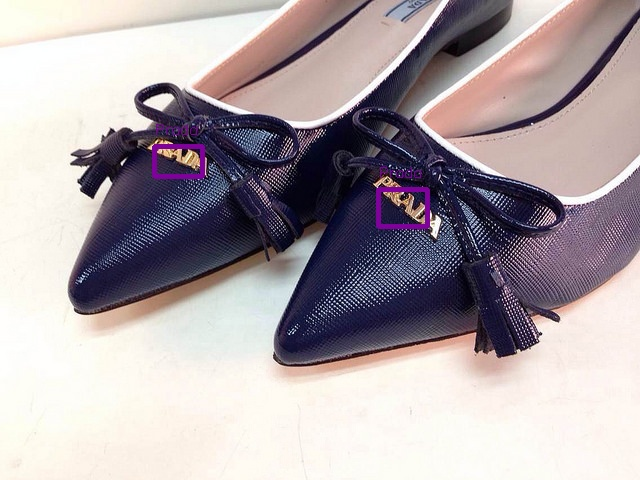Prada: (370, 173, 442, 244), (144, 136, 212, 179)
